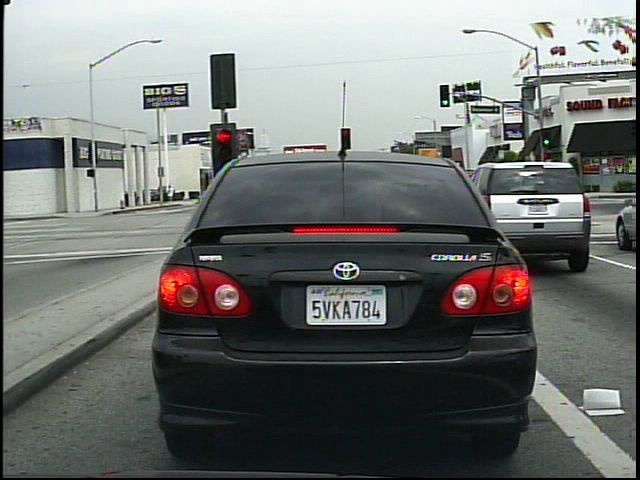person: (517, 166, 533, 198), (166, 182, 177, 206)
